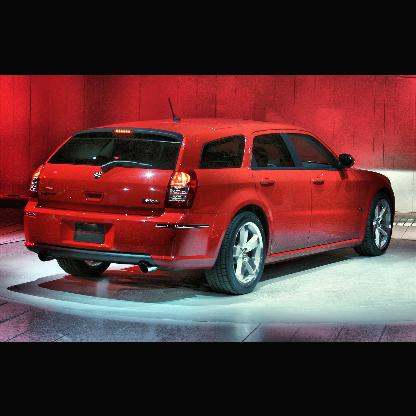Dodge Magnum Wagon 2008: (22, 97, 397, 296)
